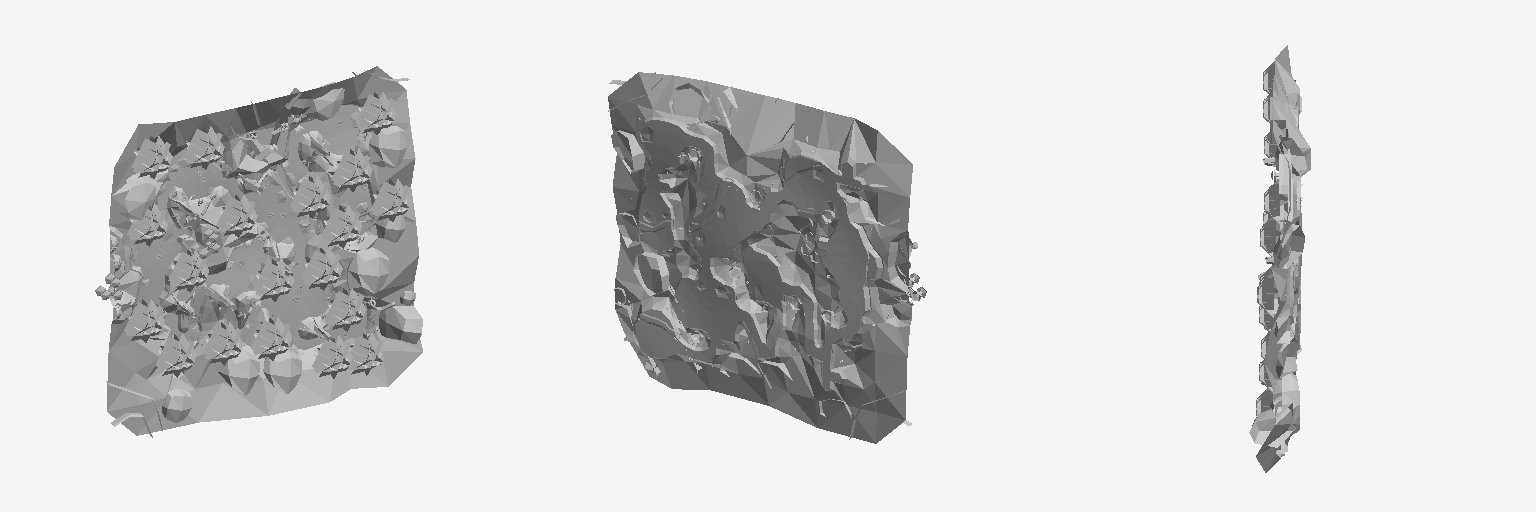
Rendered from map_forest01n_all.obj.
3 views of the same model, side by side, from view 1: azimuth 30°, elevation 25°; view 2: azimuth 150°, elevation 25°; view 3: azimuth 270°, elevation 25° (orthographic).
Parts seen in each view (by area): view 1: block460, block477, block575, block17, block141, block444, block102, block511, block58, block307, block433, block359 (+28 smaller); view 2: block460, block17, block141, block58, block102, block359, block477, block575, block307, block511, block444, block248 (+25 smaller); view 3: block575, block552, block17, block444, block307, block129, block135, block102, block302, block141, block128, block304 (+1 smaller).
Part boxes in pixels (x1,y1,x2,y2): block460: (107, 327, 197, 435); block477: (193, 316, 268, 422); block575: (316, 283, 422, 401); block17: (109, 115, 204, 225); block141: (313, 66, 415, 171); block444: (315, 222, 418, 292); block102: (247, 86, 324, 181); block511: (254, 312, 329, 415); block58: (200, 101, 264, 196); block307: (314, 159, 415, 233); block433: (347, 247, 389, 295); block359: (109, 278, 195, 349); block460: (813, 339, 907, 443); block17: (814, 111, 912, 230); block141: (608, 72, 705, 181); block58: (747, 96, 823, 204); block102: (694, 81, 764, 196); block359: (815, 274, 911, 355); block477: (754, 323, 817, 427); block575: (615, 279, 709, 389); block307: (613, 154, 696, 242); block511: (696, 323, 768, 405); block444: (615, 219, 696, 300); block248: (753, 198, 816, 272); block575: (1256, 373, 1296, 472); block552: (1249, 403, 1292, 447); block17: (1275, 45, 1296, 107); block444: (1264, 318, 1291, 392); block307: (1270, 252, 1290, 331); block129: (1273, 224, 1304, 268); block135: (1264, 179, 1287, 223); block102: (1273, 103, 1310, 176); block302: (1257, 272, 1279, 317); block141: (1272, 135, 1296, 267); block128: (1275, 137, 1306, 175); block304: (1260, 217, 1282, 258).
Bounding box in the file's own units: 1679 × 1600 × 285.